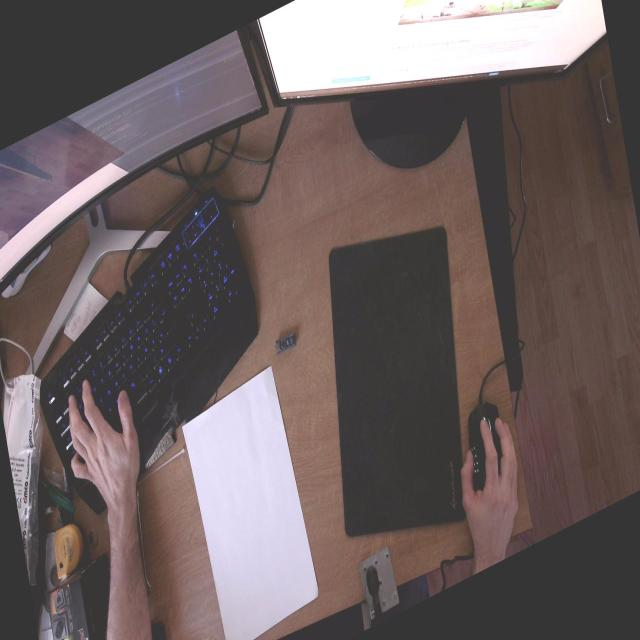keyboard-with-hands: (35, 179, 268, 525)
